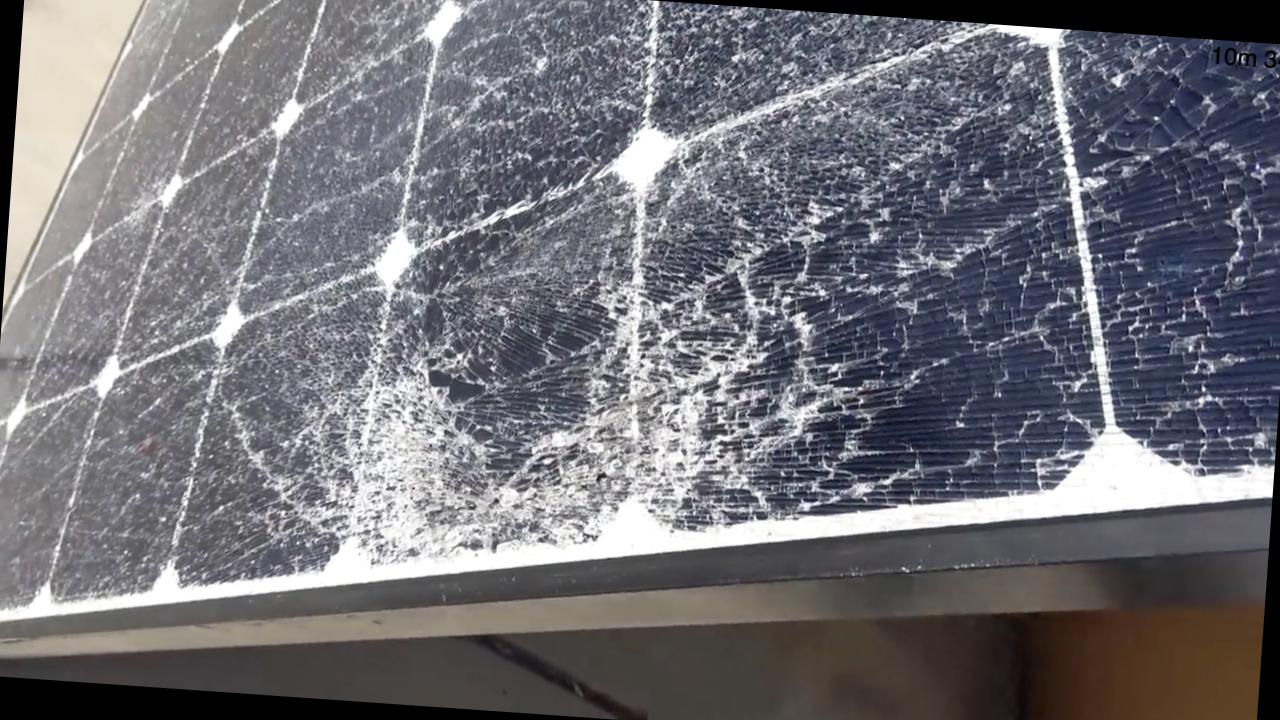Crack: (568, 0, 1086, 561), (216, 262, 748, 602)
